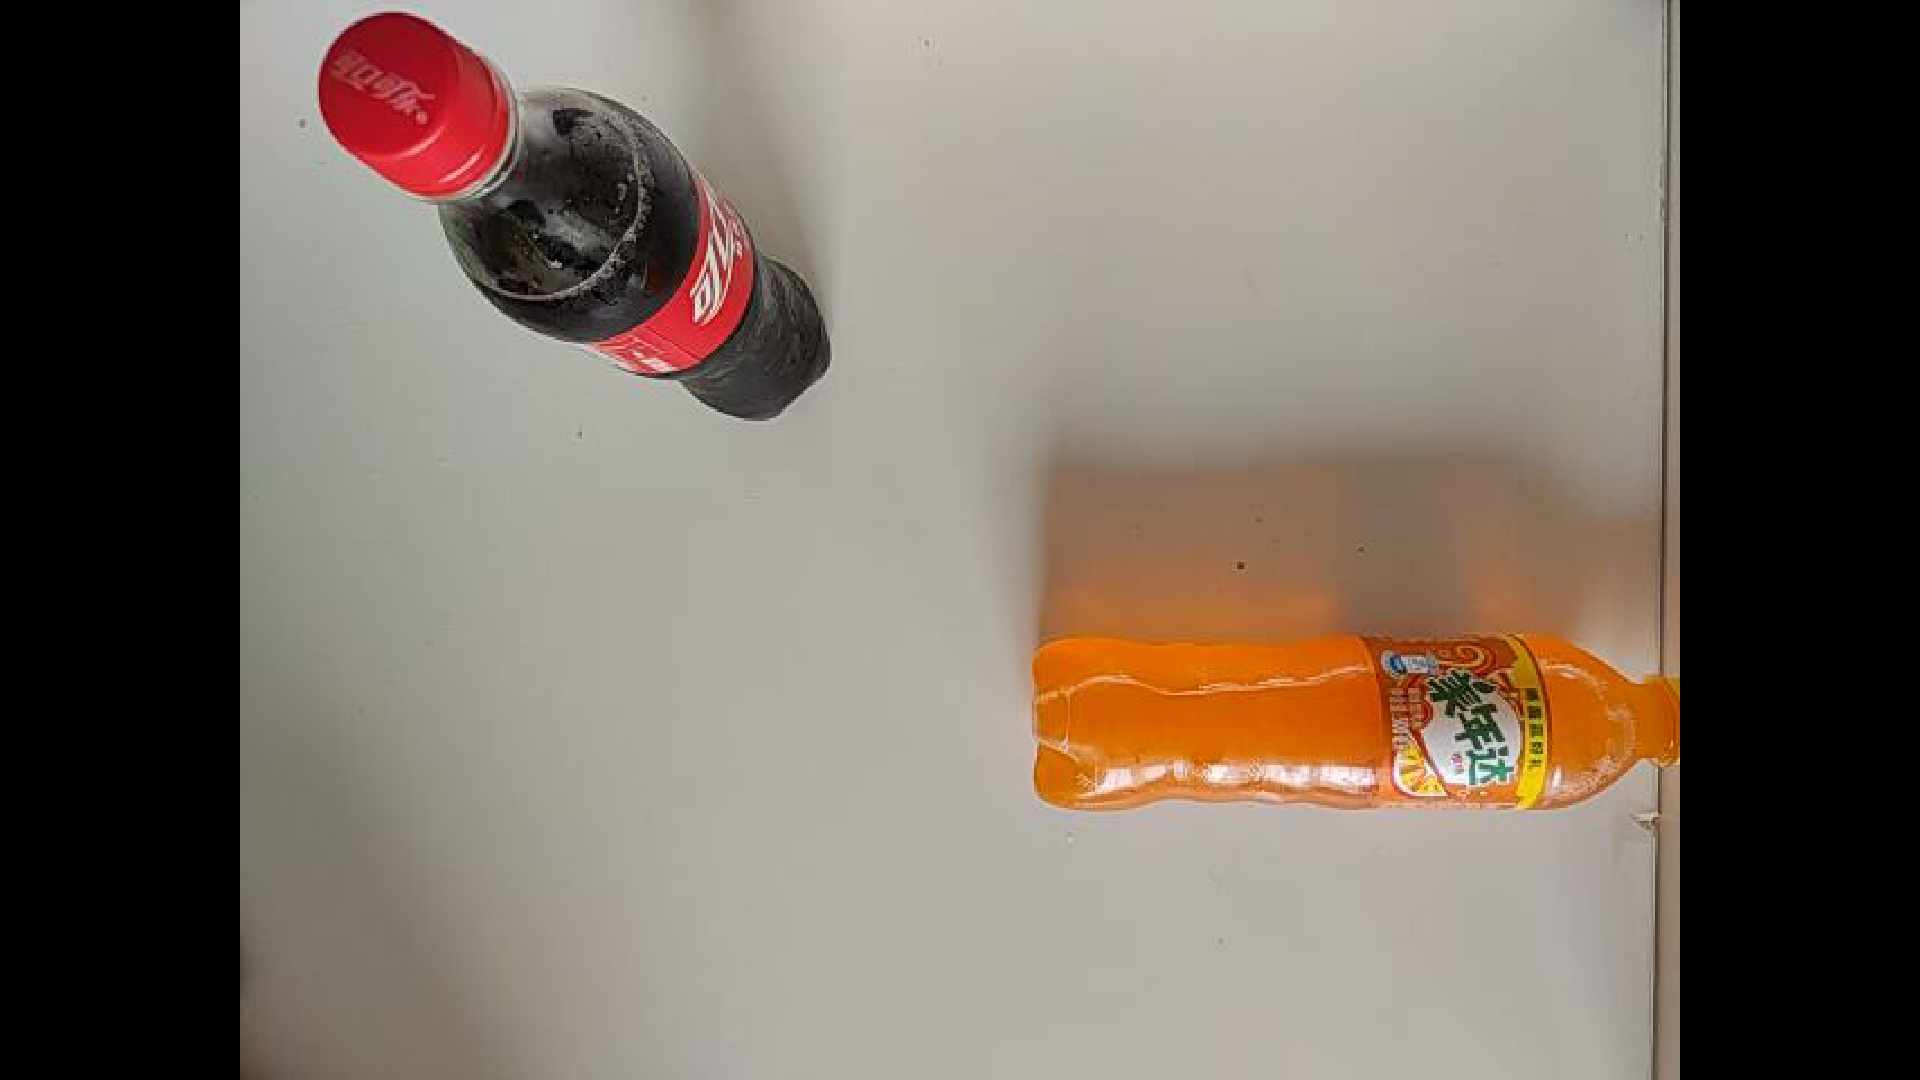cola: (316, 11, 832, 423)
fenta: (1030, 629, 1680, 815)
